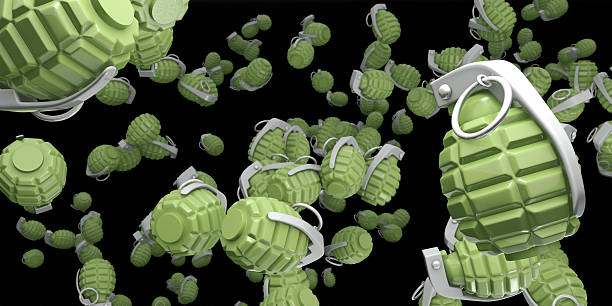e1: (424, 58, 581, 249), (222, 195, 324, 281), (322, 134, 367, 198), (73, 261, 119, 306), (473, 1, 518, 38), (363, 1, 402, 43)
